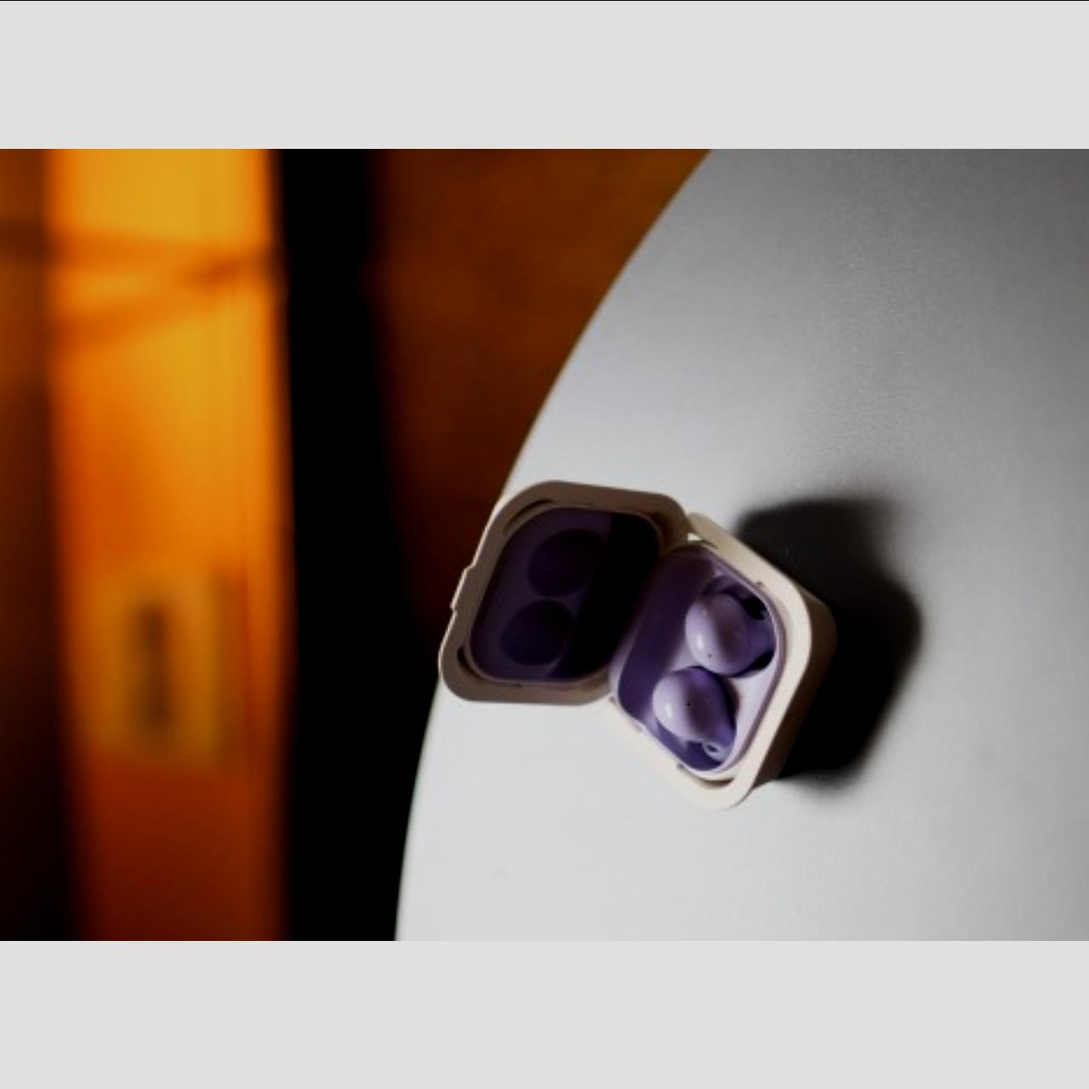Buds: (430, 477, 847, 810)
Buds_Units: (639, 663, 740, 773), (680, 580, 780, 676)
